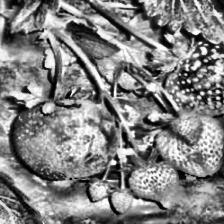Gray Mold: (12, 95, 120, 180)
